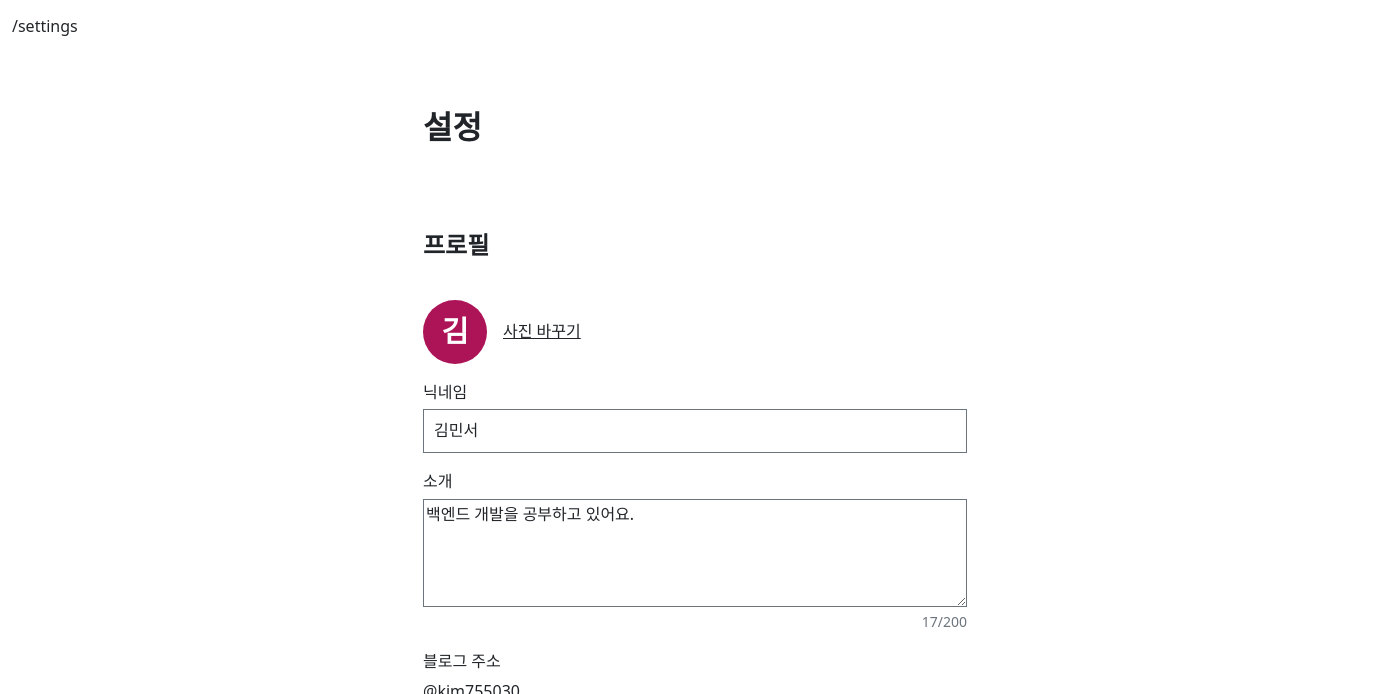
Test: SettingsPage (FR-046~053) › 409 NICKNAME_CHANGE_TOO_SOON이면 그 문구를 닉네임 칸에 보인다
Replace the text in the field labelled "닉네임" with "다른이름" at coordinates (695, 431), box [423,410,967,453]
(page scrolled)
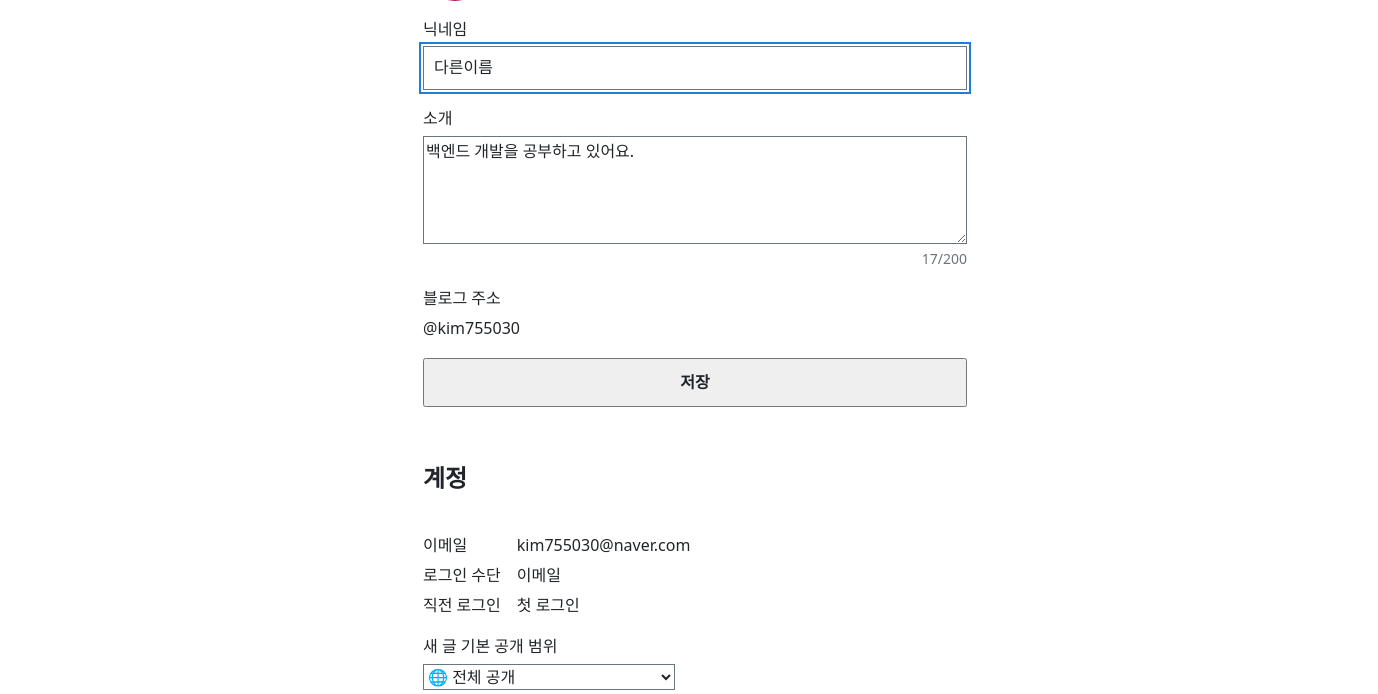
Click the button "저장" at coordinates (695, 382), box [423,358,967,407]
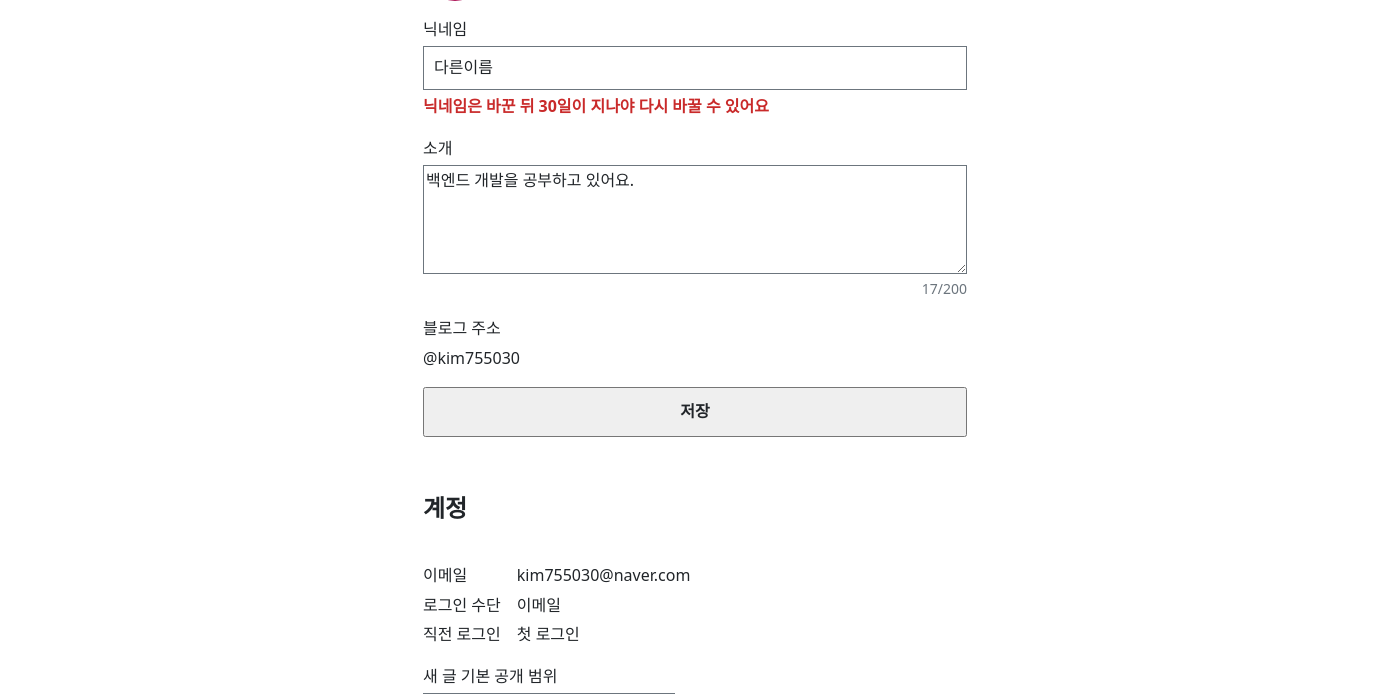
expect the text "닉네임은 바꾼 뒤 30일이 지나야 다시 바꿀 수 있어요" is shown: met, box [423,95,769,117]
